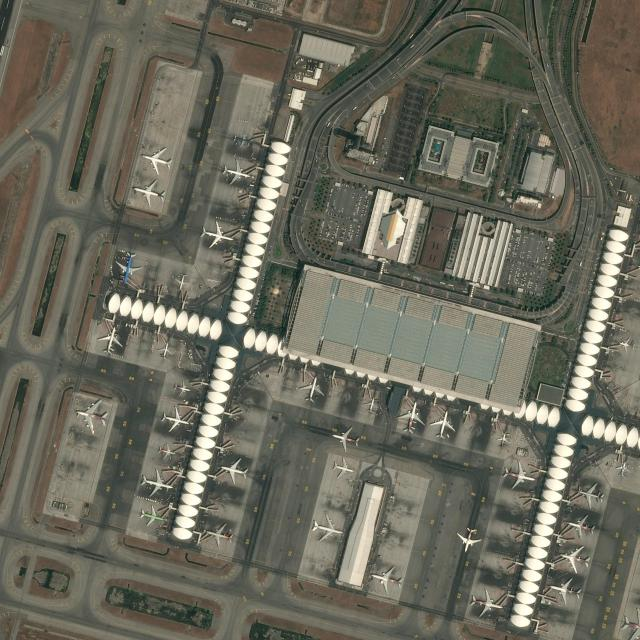1: (620, 606, 639, 640)
aircraft: (75, 396, 109, 434), (503, 458, 535, 489), (371, 562, 402, 594), (201, 220, 234, 249), (549, 577, 583, 605), (131, 178, 166, 205), (398, 398, 424, 434), (311, 512, 343, 541), (140, 468, 173, 496), (115, 250, 142, 284), (558, 544, 590, 572), (470, 588, 502, 616), (431, 406, 456, 440), (160, 404, 190, 432), (219, 456, 249, 484), (141, 147, 172, 173), (204, 520, 232, 548), (97, 325, 123, 355), (332, 424, 359, 452), (456, 524, 482, 551), (222, 160, 248, 186), (577, 481, 603, 507), (568, 514, 594, 540), (300, 375, 324, 403), (138, 503, 166, 525), (332, 457, 353, 476), (613, 458, 631, 476), (172, 380, 190, 396), (158, 340, 172, 360), (157, 442, 174, 458), (364, 394, 379, 412), (174, 271, 188, 290), (620, 337, 634, 351), (497, 433, 509, 448)
